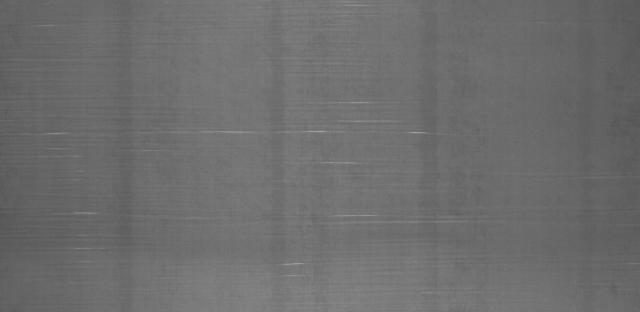waist_folding: (39, 18, 501, 266)
